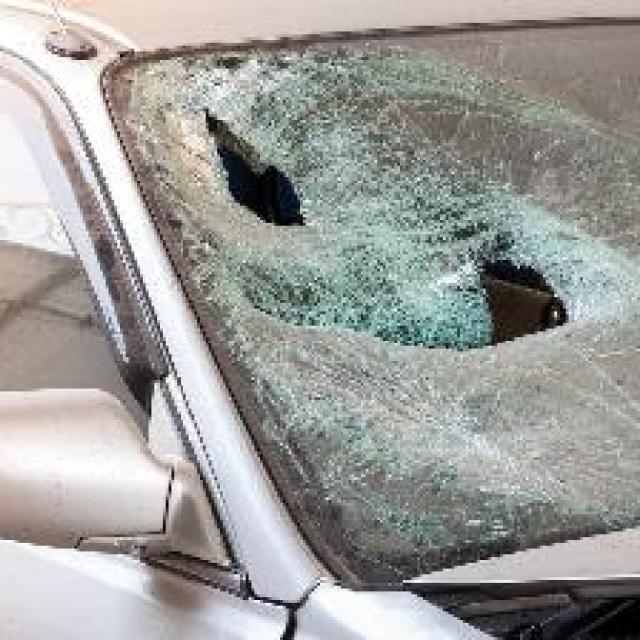glass_shatter_severe: (129, 57, 637, 517)
